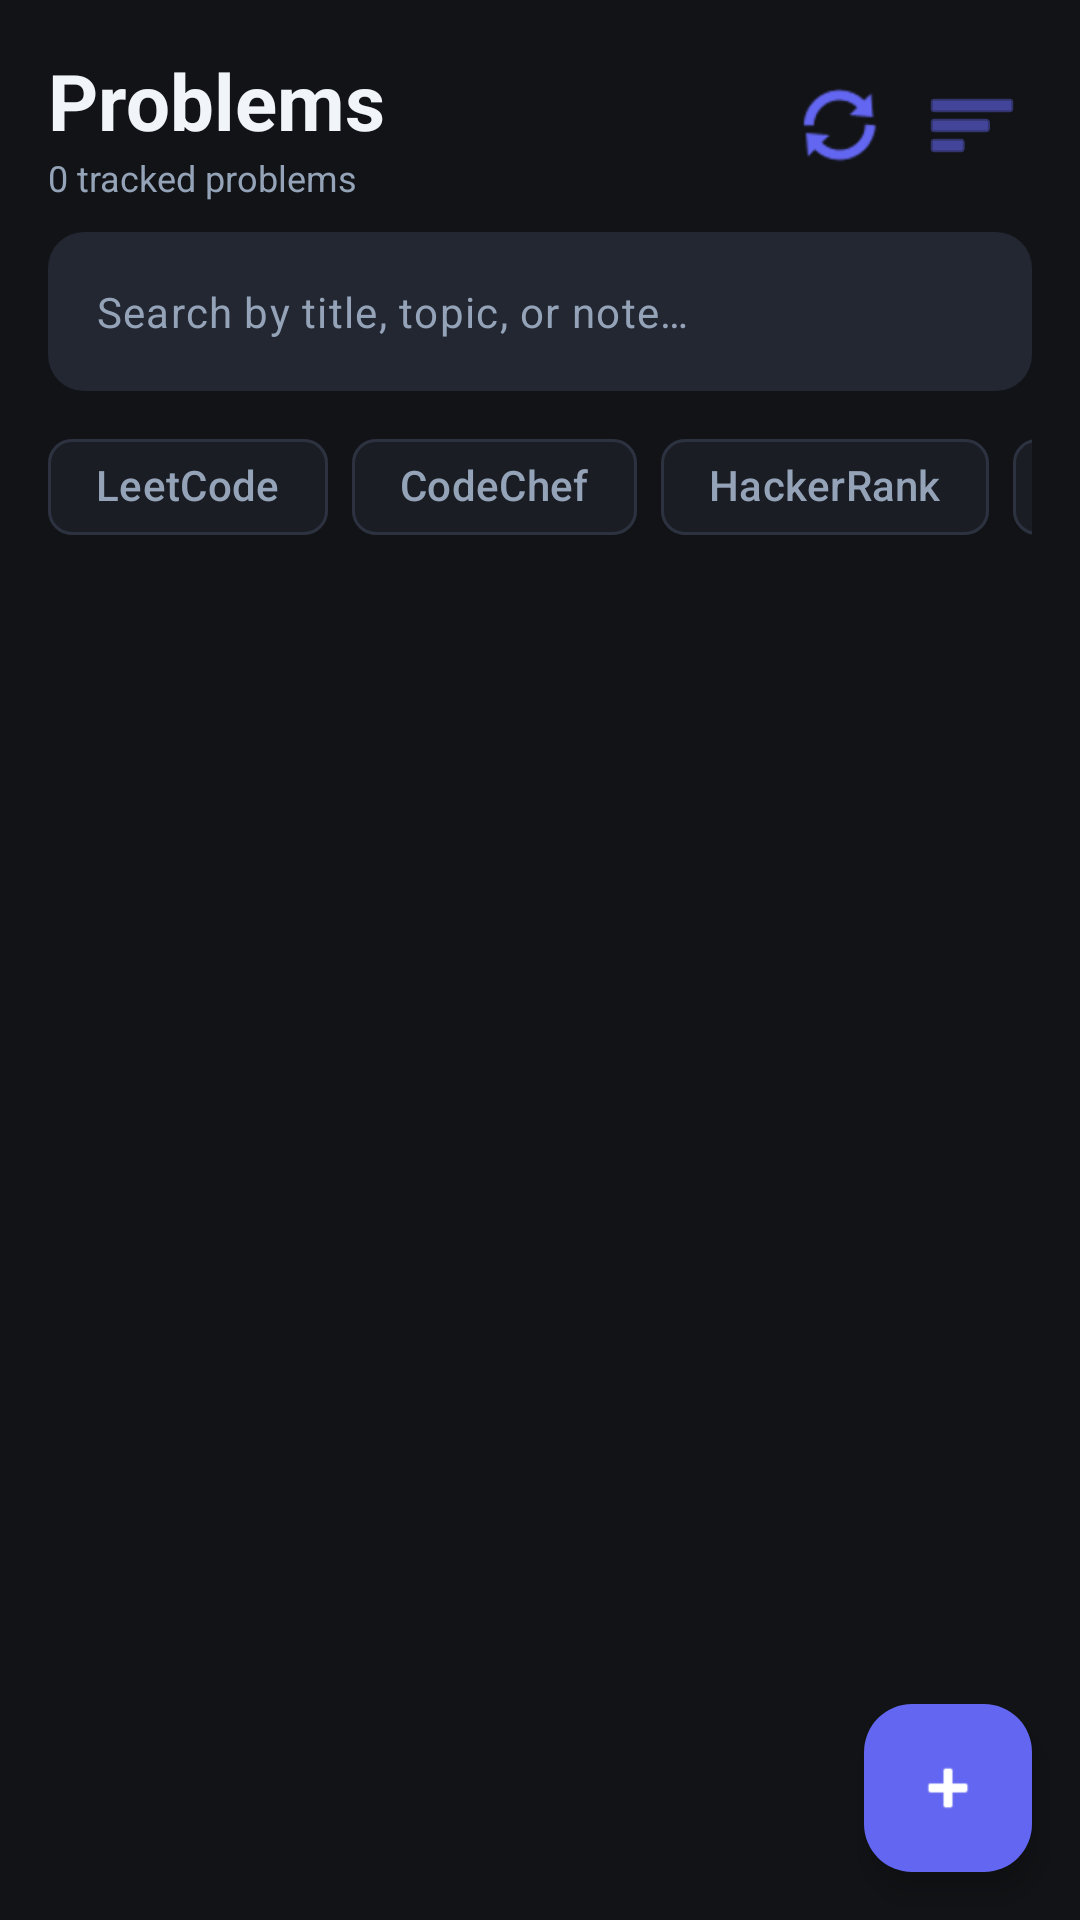

Where to tap for icons on this 1080px×1920px app screen, as point (x, y):
Add Problem: point (948, 1788)
Auto Sync & Analyze: point (840, 125)
Sort: point (972, 125)
